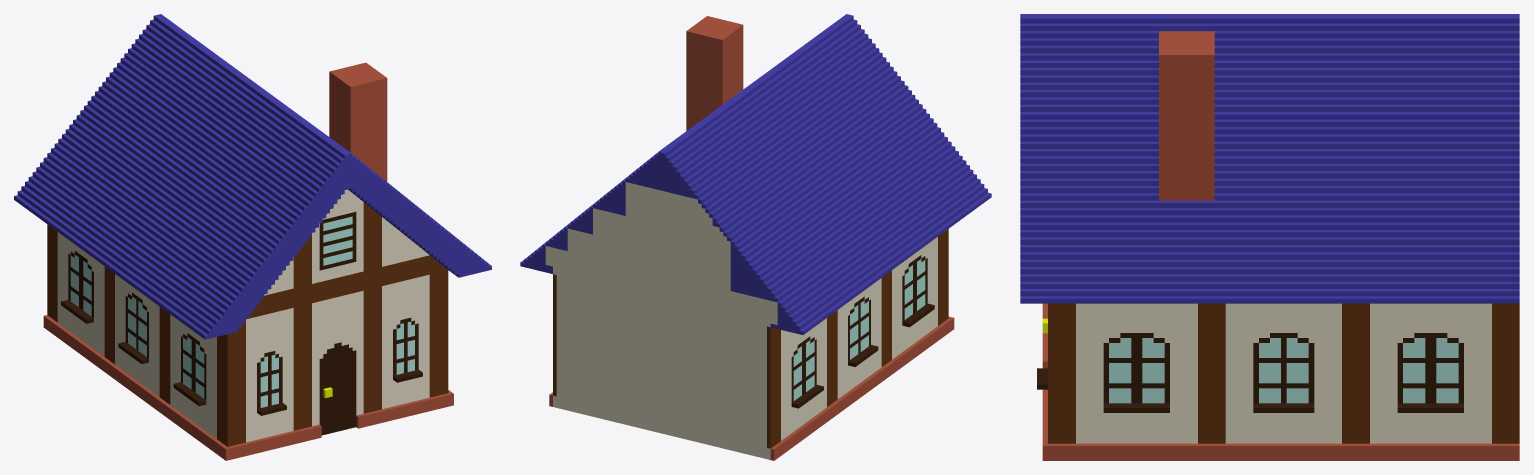
File: house.blue.obj
3 views of the same model, side by side, from view 1: azimuth 30°, elevation 25°; view 2: azimuth 150°, elevation 25°; view 3: azimuth 270°, elevation 25° (orthographic). The views are drawn at different scales.
Bounding box in the file's own units: 7.8 × 7.8 × 9.
Materials: 1 (1 with a texture image).
